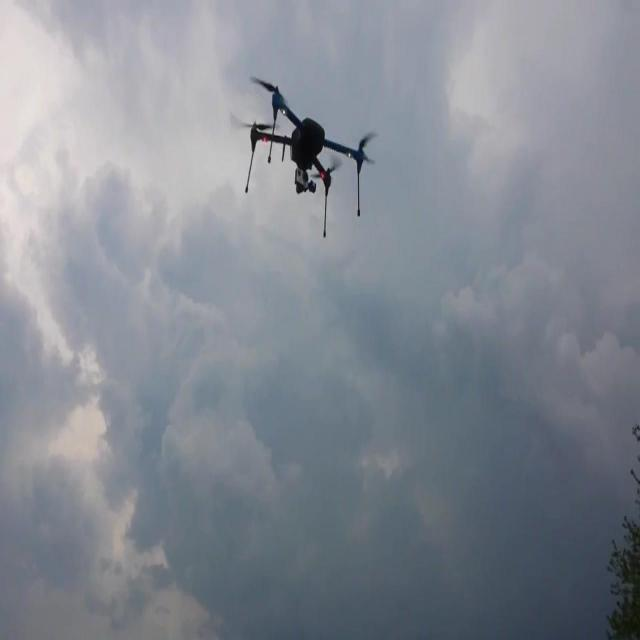UAV: (226, 76, 378, 239)
